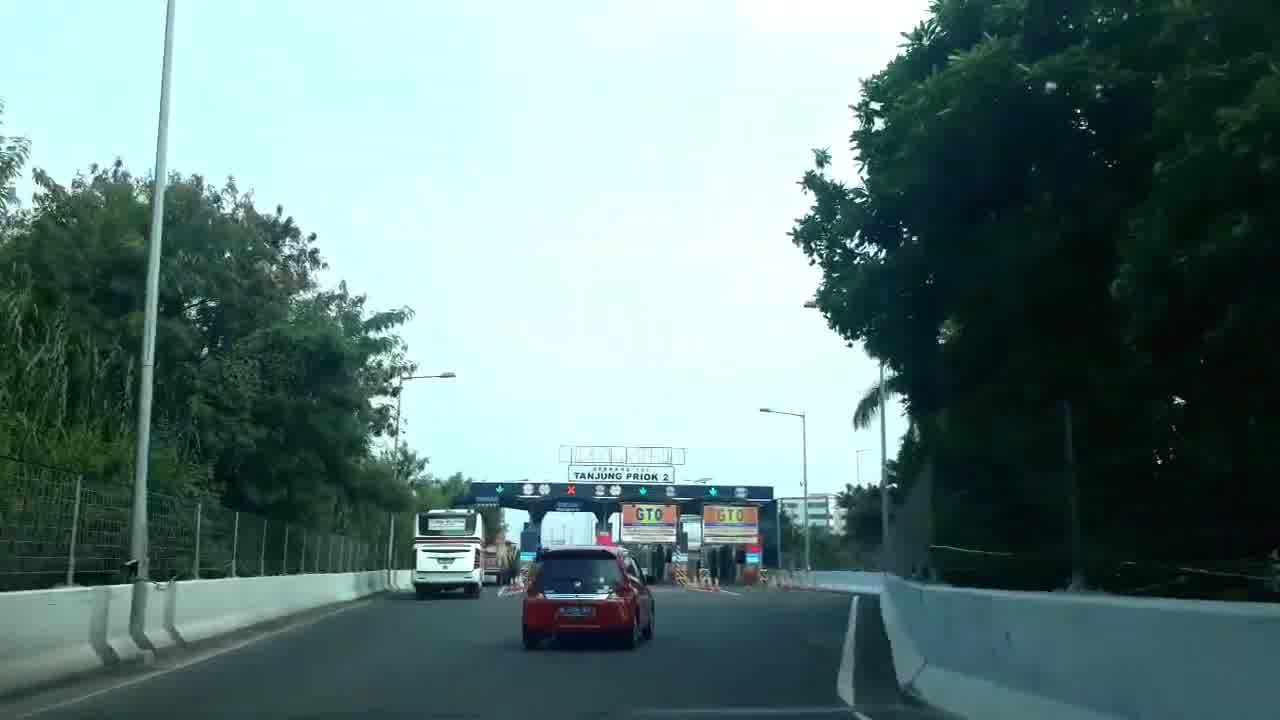plate_positive: (560, 607, 592, 617)
